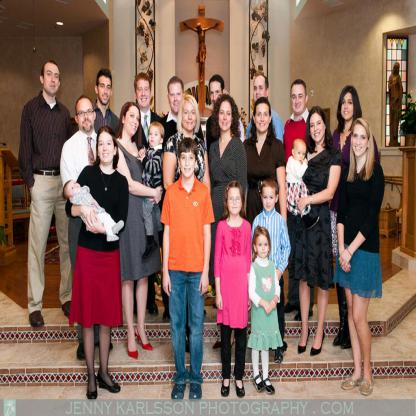face: (353, 127, 369, 156), (78, 105, 94, 131), (99, 136, 114, 163), (44, 69, 60, 94), (311, 117, 326, 143), (125, 111, 140, 136), (183, 105, 197, 131), (256, 106, 270, 132), (292, 88, 306, 114), (181, 154, 196, 178), (137, 83, 151, 108), (170, 87, 184, 112), (342, 95, 356, 120), (98, 80, 112, 104), (228, 191, 242, 215), (220, 106, 233, 131), (211, 84, 224, 109), (255, 81, 267, 106), (263, 190, 276, 212), (257, 238, 269, 259), (295, 147, 306, 164), (150, 129, 161, 145), (71, 181, 81, 196)
